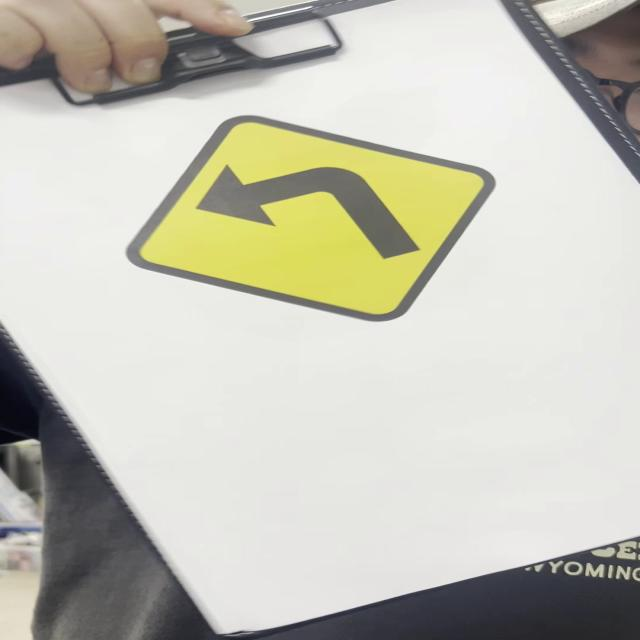left: (126, 117, 500, 322)
